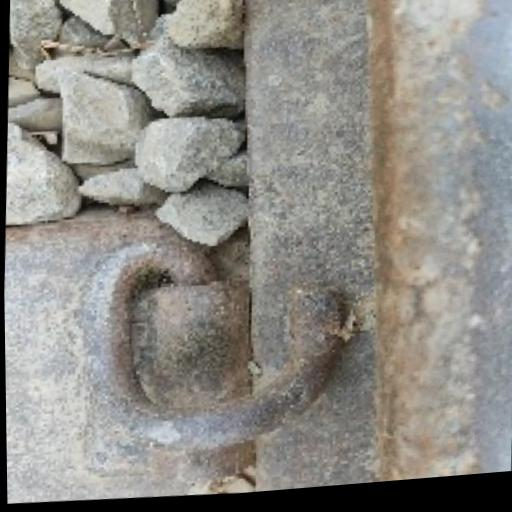erc_good: (80, 244, 339, 472)
